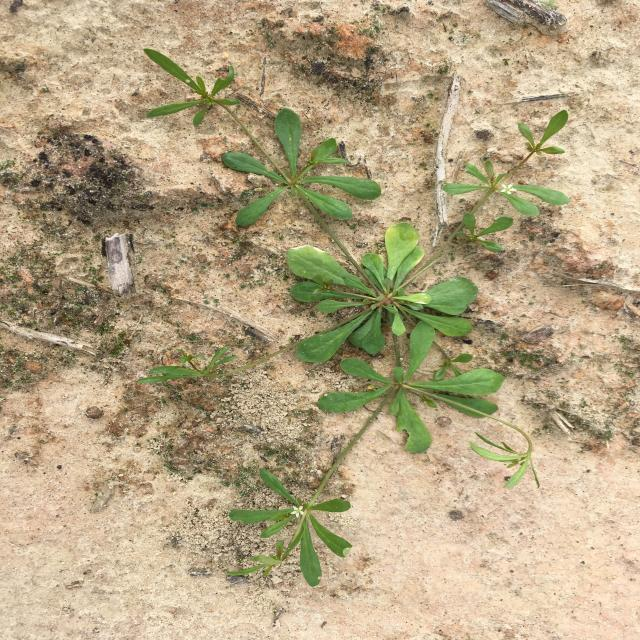Carpetweed: (135, 48, 571, 588)
